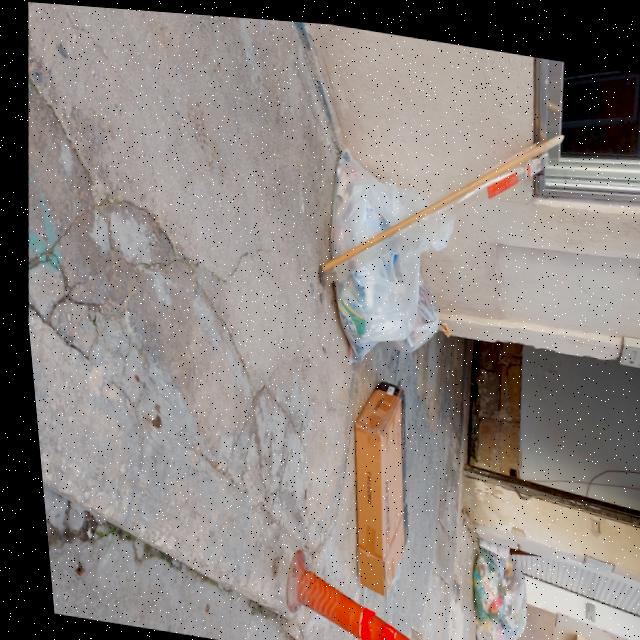Organic Waste -White Bag-: (308, 143, 427, 343), (387, 260, 438, 350), (485, 537, 523, 638), (459, 608, 499, 640)
Other: (329, 366, 419, 593)
Recycled Waste -Grey or Green Bag-: (457, 542, 500, 618)
